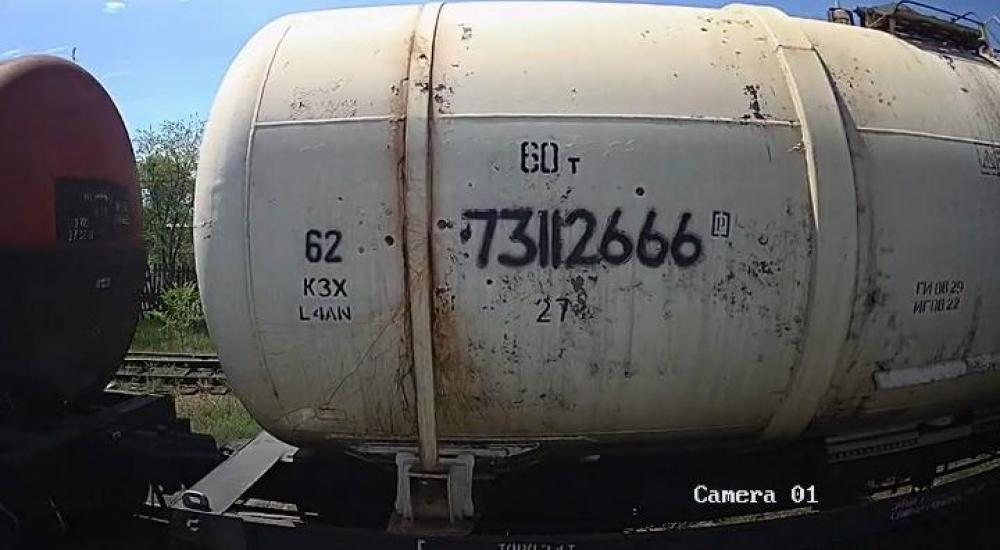Wagon-number: (462, 203, 712, 276)
